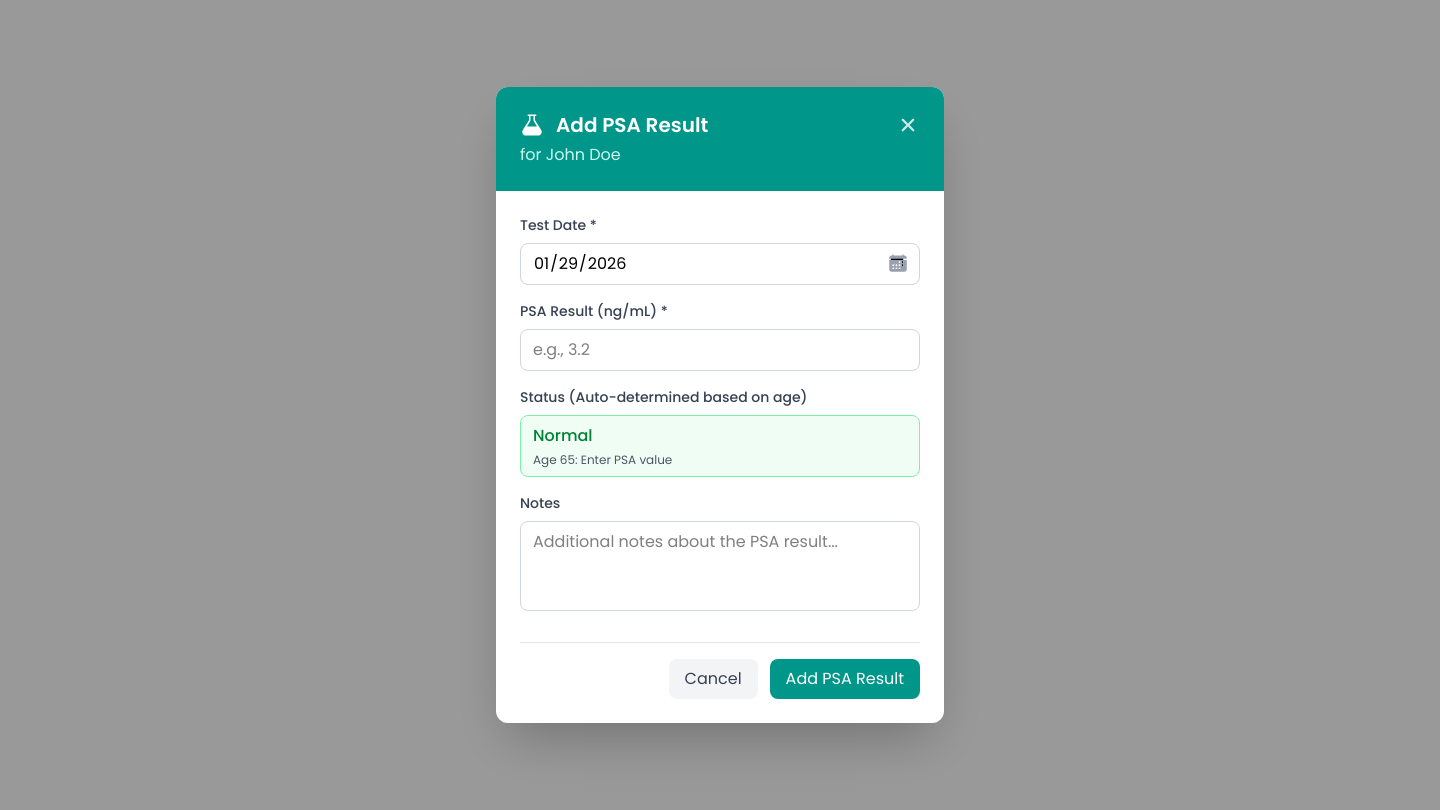
Test: AddPSAResultModal › should handle validation errors
The width and height of the screenshot is (1440, 810).
// Submit without filling required fields
Click the button "Add PSA Result": x=845, y=679 [770, 659, 920, 699]
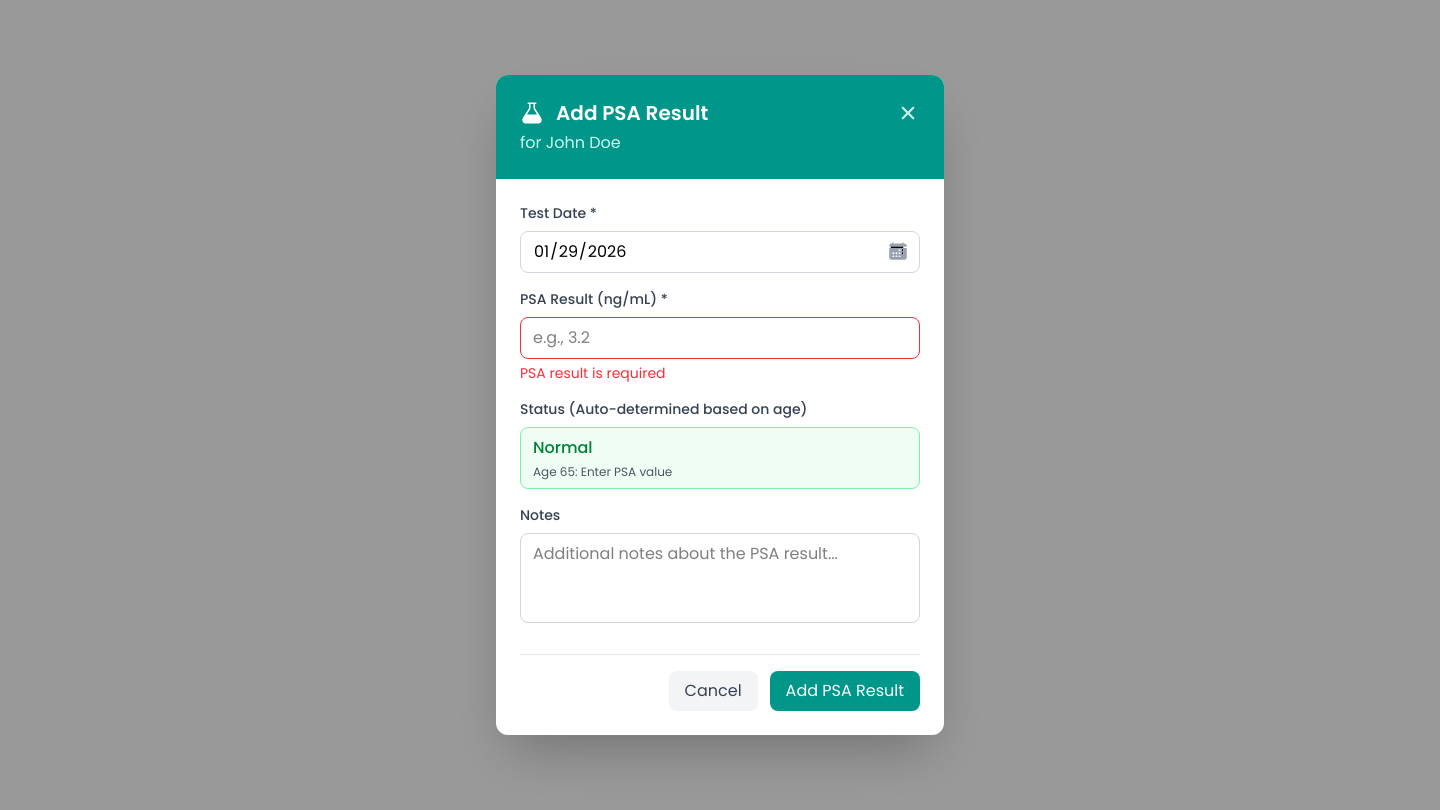
Result: the text "PSA result is required" is shown at [520, 363, 666, 383]
